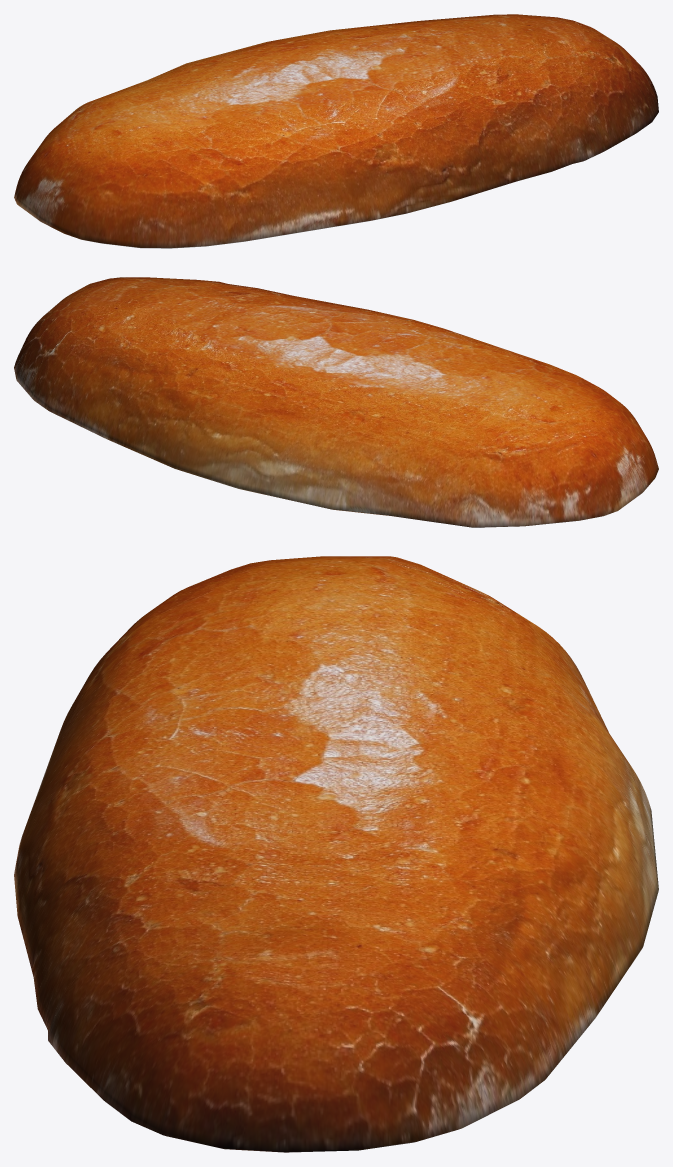
File: bread.dae
The picture shows the model from 3 angles, top to bottom: view 1: azimuth 30°, elevation 25°; view 2: azimuth 150°, elevation 25°; view 3: azimuth 270°, elevation 25°; orthographic projection. The views are drawn at different scales.
Visible parts, largest first — view 1: SketchUp; view 2: SketchUp; view 3: SketchUp.
Part boxes in pixels (bbox=[...]): SketchUp: bbox=[14, 14, 658, 247]; SketchUp: bbox=[14, 277, 658, 527]; SketchUp: bbox=[14, 556, 658, 1151].
Size of the model in its own units: 359 by 185 by 45.68.
2 materials, 2 textured.
